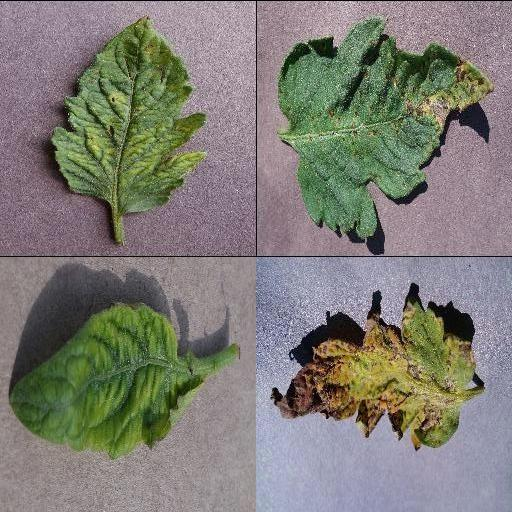Mosaic Virus: (51, 14, 209, 214)
Septoria: (275, 18, 499, 239), (269, 300, 473, 450)
Yellow Leaf Curl Virus: (8, 300, 204, 458)
